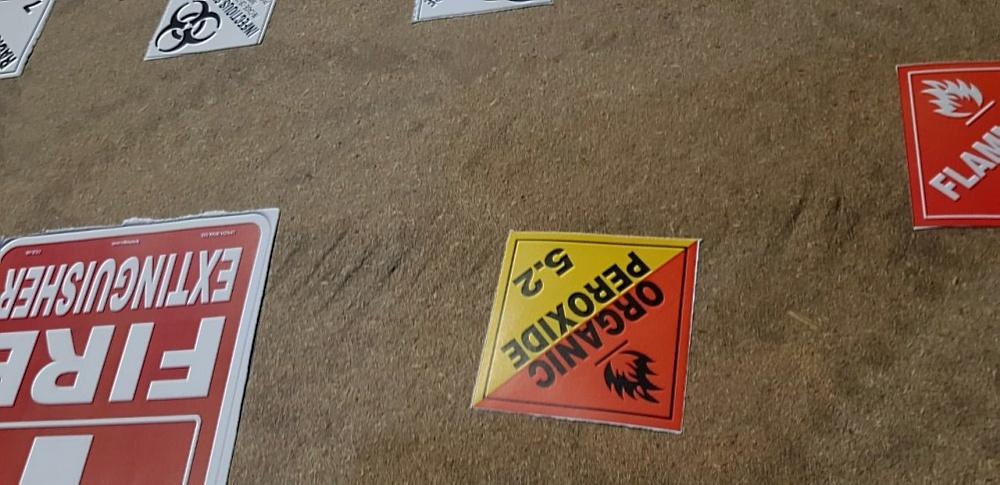flammable: (892, 58, 1000, 233)
infectious-substance: (136, 1, 275, 64)
organic-peroxide: (471, 232, 697, 433)
